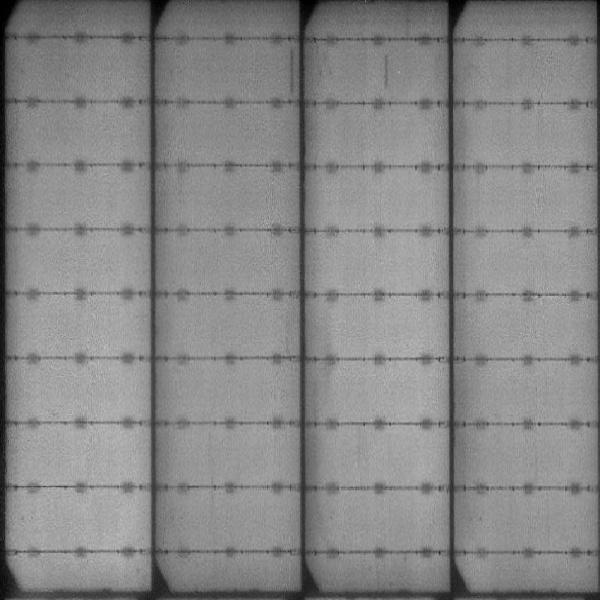scratch: (381, 53, 396, 93), (287, 40, 297, 99)
